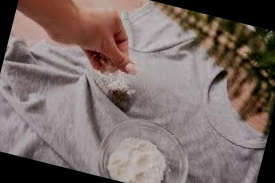wine: (94, 70, 167, 124)
